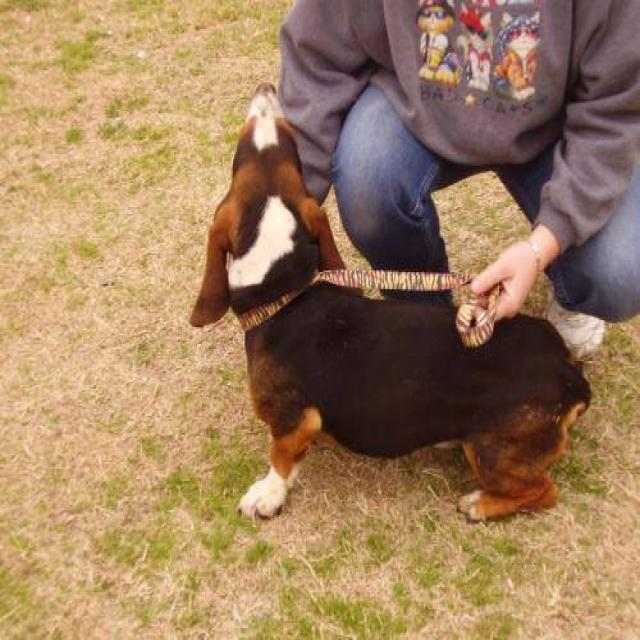dog: (188, 80, 592, 526)
